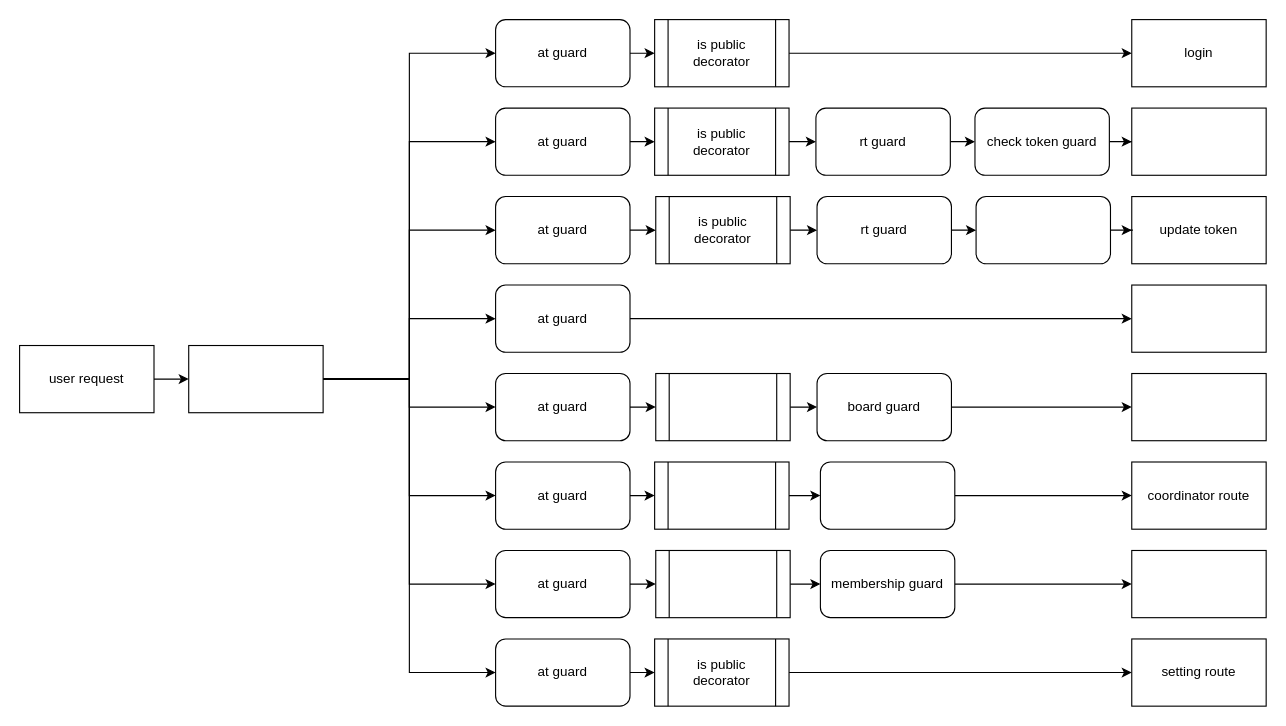
Some shapes in this 1286 by 726 pixel diagram are drawn without their labels. The centre of each missing label's shape, as x and y in pixels:
"board claim decorator" belongs at pixel 722 406.
"board route" belongs at pixel 1198 406.
"check token for update guard" belongs at pixel 1042 229.
"coordinator claim decorator" belongs at pixel 721 495.
"coordinator guard" belongs at pixel 887 495.
"logout" belongs at pixel 1198 318.
"membership claim decorator" belongs at pixel 722 583.
"membership route" belongs at pixel 1198 583.
"refresh token" belongs at pixel 1198 141.
"server" belongs at pixel 255 378.
